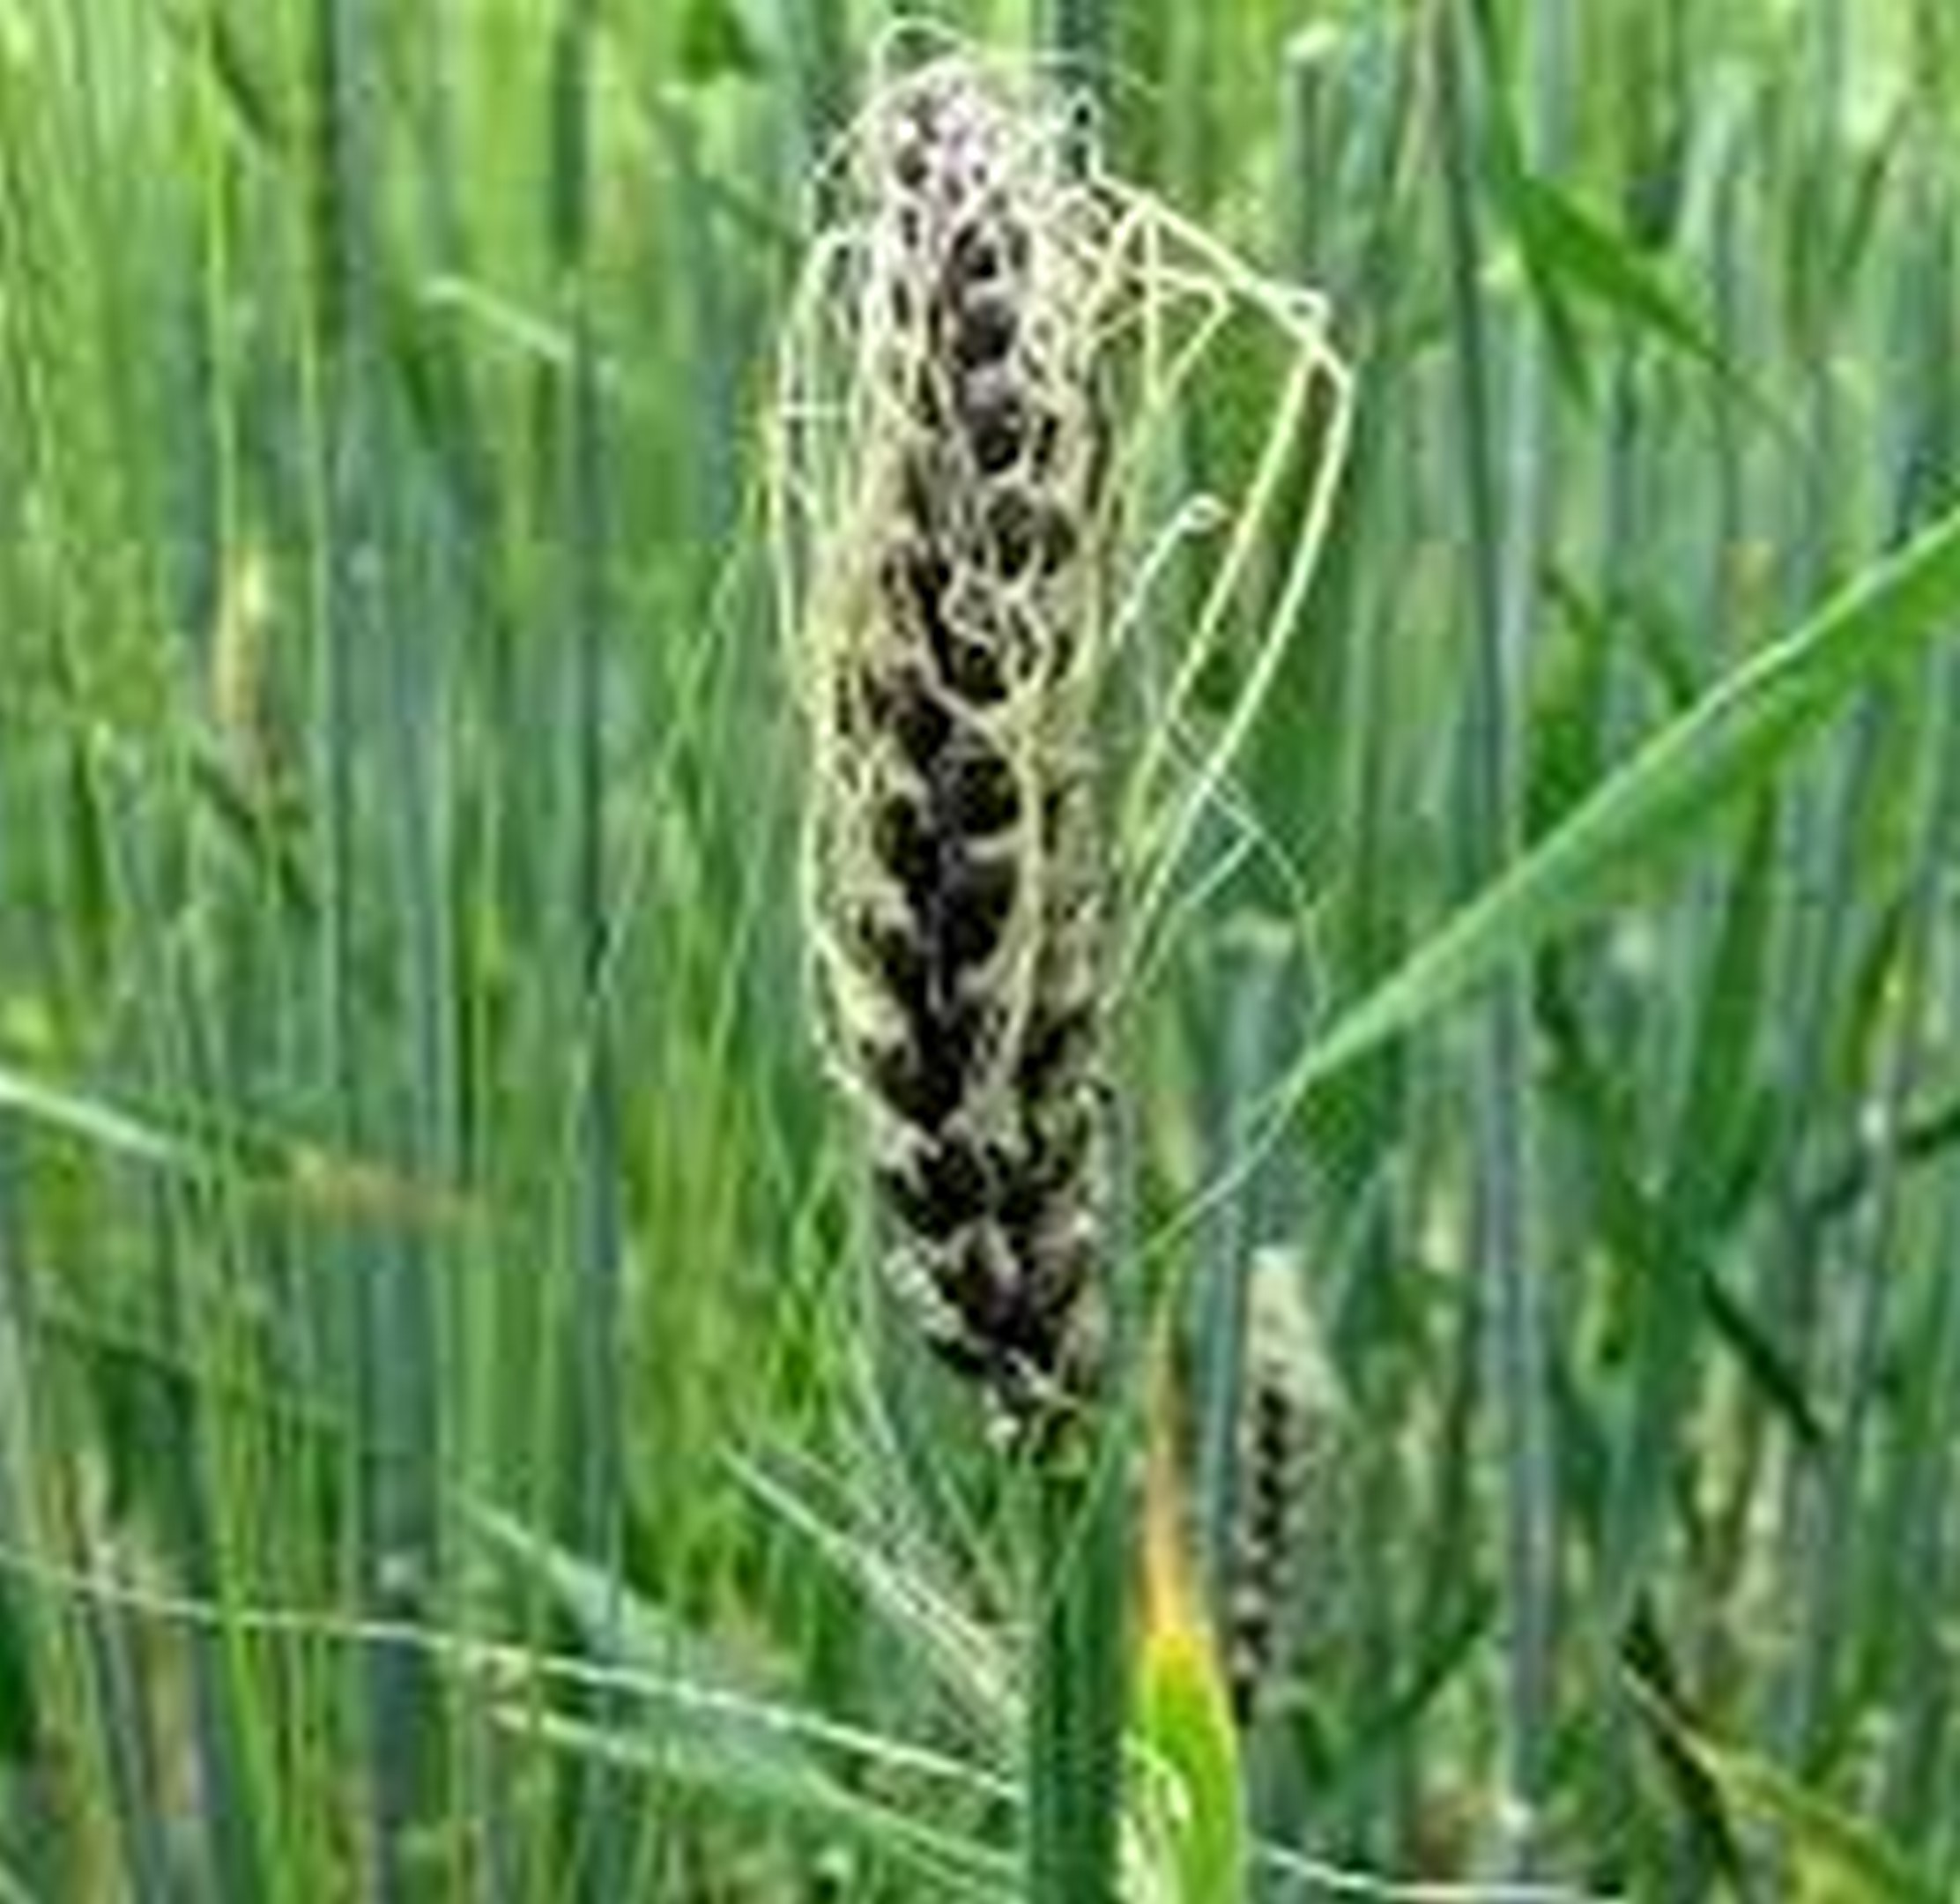Wheat Loose Smut: (747, 136, 1232, 1370)
